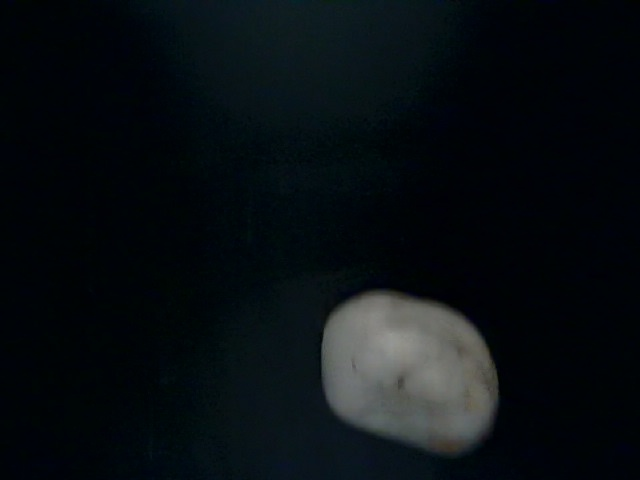QTLJ: (326, 351, 535, 480)
